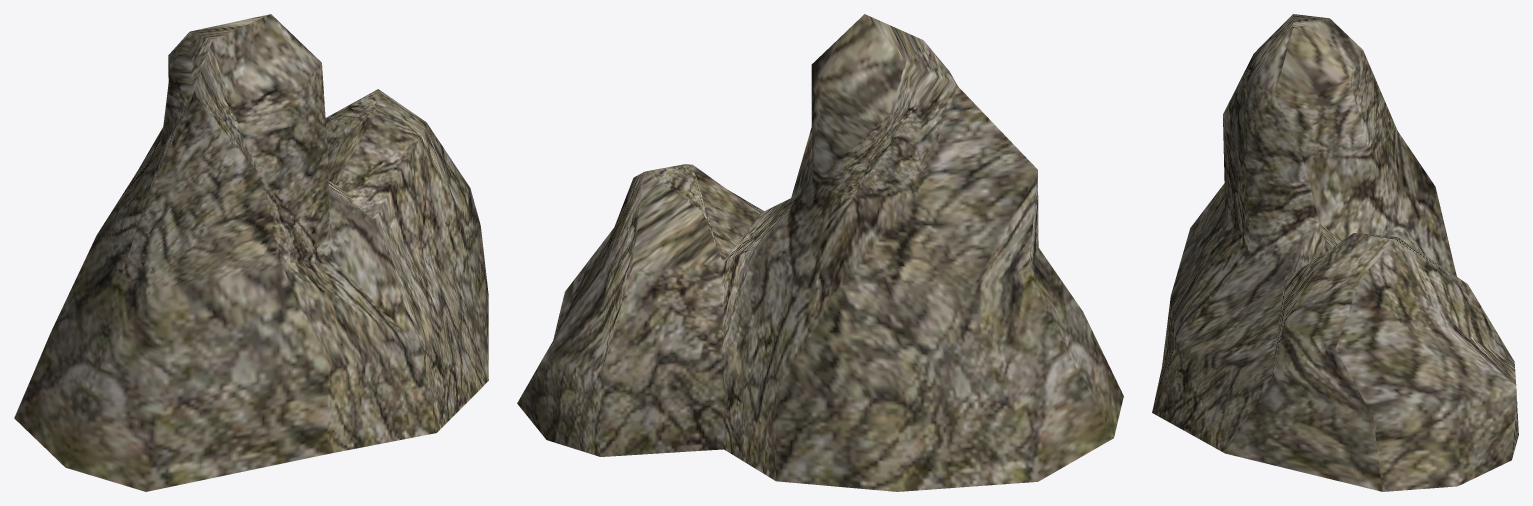
The model's file is general_obj_bigstone08.glb.
3 renders of one model, left to right at view 1: azimuth 30°, elevation 25°; view 2: azimuth 150°, elevation 25°; view 3: azimuth 270°, elevation 25°, orthographic. The views are drawn at different scales.
Parts seen in each view (by area): view 1: Sphere01; view 2: Sphere01; view 3: Sphere01.
Boxes of the visible parts, left/top/right/bottom form: Sphere01: left=14, top=14, right=488, bottom=491; Sphere01: left=517, top=14, right=1123, bottom=491; Sphere01: left=1152, top=14, right=1518, bottom=491.
Bounding box in the file's own units: 23.18 × 17.16 × 16.53.
1 material, 1 textured.
